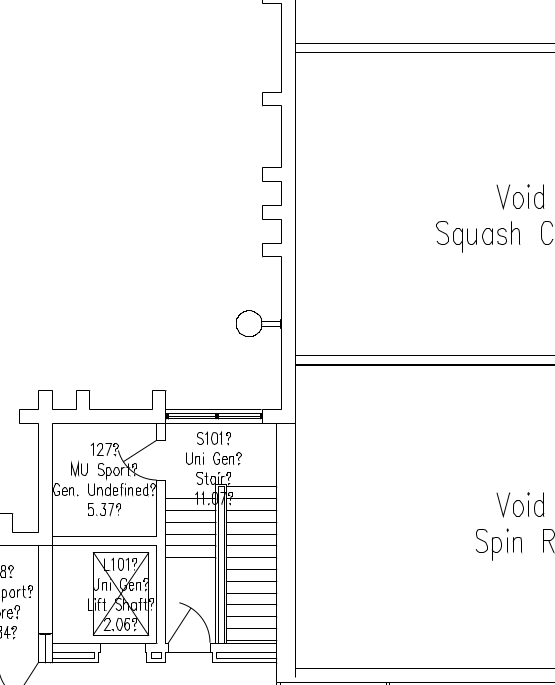door: (168, 600, 210, 644), (117, 439, 156, 485)
